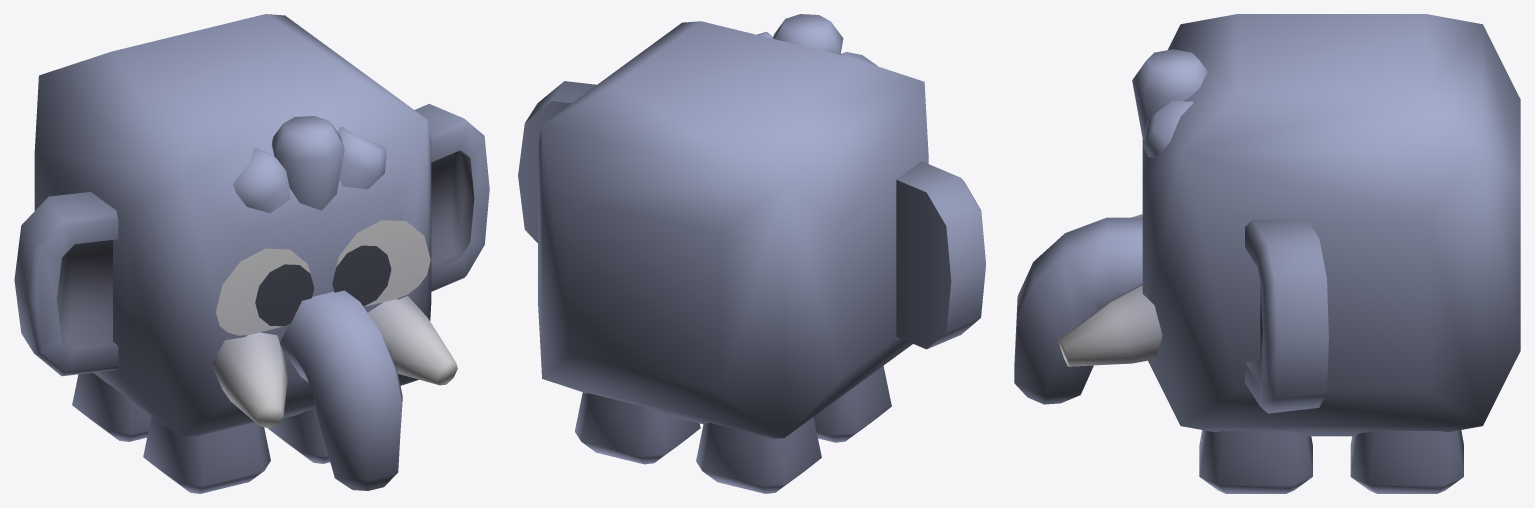
File: elephant.glb
3 renders of one model, left to right at view 1: azimuth 30°, elevation 25°; view 2: azimuth 150°, elevation 25°; view 3: azimuth 270°, elevation 25°, orthographic. The views are drawn at different scales.
Parts seen in each view (by area): view 1: body, tail, leg-front-right, leg-back-right, leg-front-left; view 2: body, leg-back-right, leg-back-left, leg-front-right; view 3: body, tail, leg-back-left, leg-front-left.
Part boxes in pixels (left/top/right/bottom): body: left=14, top=14, right=489, bottom=437; tail: left=280, top=290, right=402, bottom=490; leg-front-right: left=143, top=416, right=270, bottom=493; leg-back-right: left=72, top=372, right=151, bottom=441; leg-front-left: left=268, top=408, right=329, bottom=463; body: left=518, top=14, right=985, bottom=438; leg-back-right: left=696, top=417, right=821, bottom=493; leg-back-left: left=575, top=392, right=700, bottom=464; leg-front-right: left=813, top=366, right=891, bottom=442; body: left=1059, top=14, right=1520, bottom=436; tail: left=1014, top=217, right=1142, bottom=404; leg-back-left: left=1350, top=430, right=1463, bottom=493; leg-front-left: left=1199, top=430, right=1312, bottom=493.
Size of the model in its own units: 1.88 by 1.43 by 1.68.
